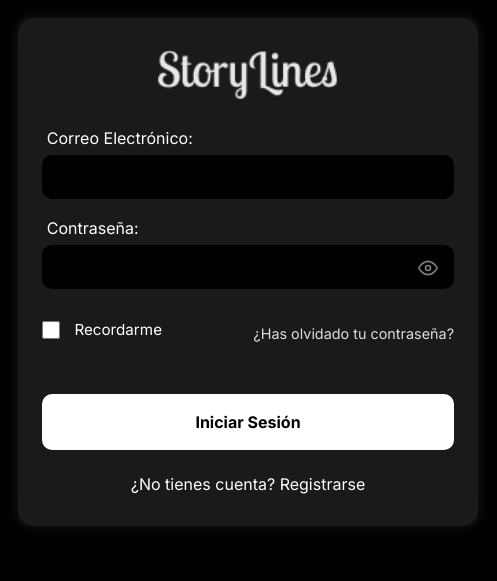
Login.vue - cobertura 100% › login fallido muestra mensaje de error
The width and height of the screenshot is (497, 581).
Type "bad@mail.com" into the field labelled "Correo Electrónico:". click: (248, 177)
box: [42,155,454,199]
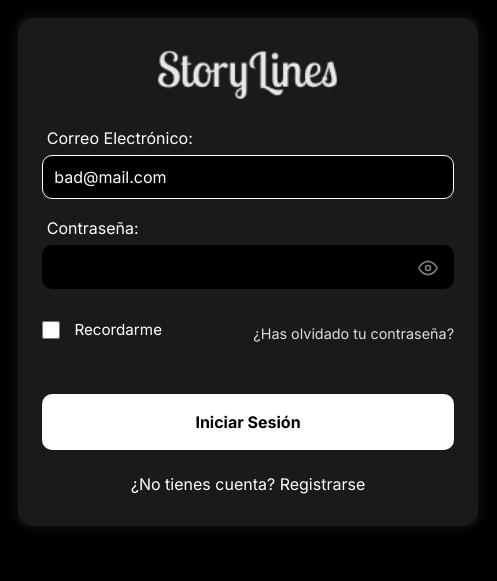
Type "wrong" into the password field labelled "Contraseña:". click: (248, 267)
box: [42,245,454,289]
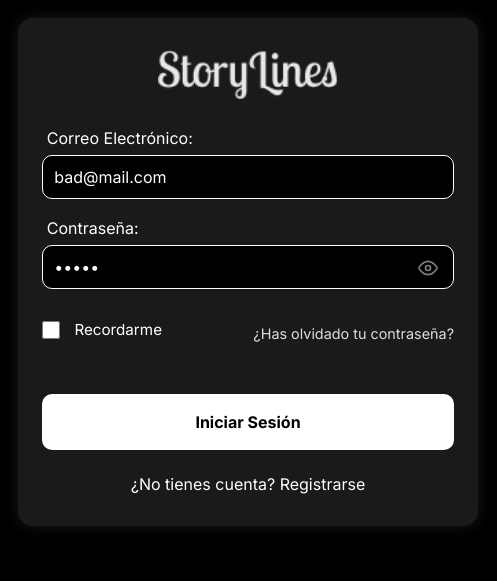
Click the button "Iniciar Sesión". click: (248, 422)
box: [42,394,454,450]
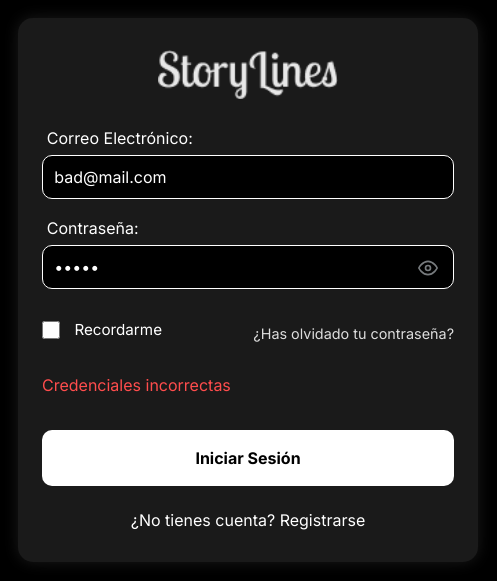
Expected: the text "Credenciales incorrectas" is shown, [42,375,231,395]
